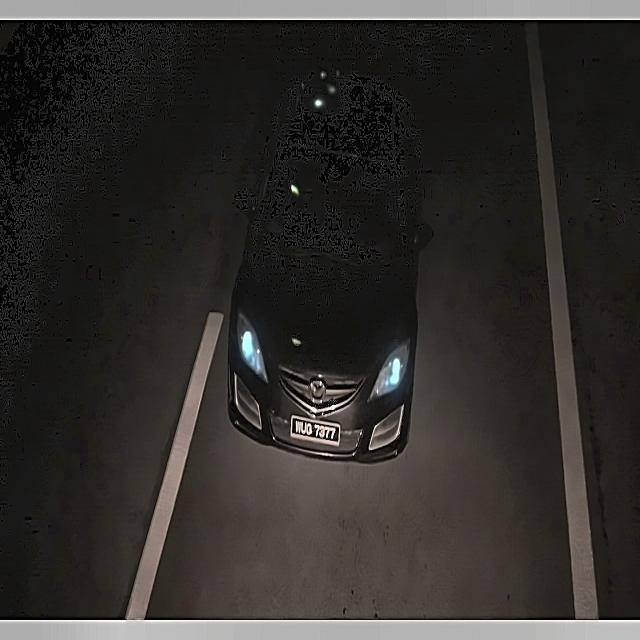car: (287, 409, 345, 451)
